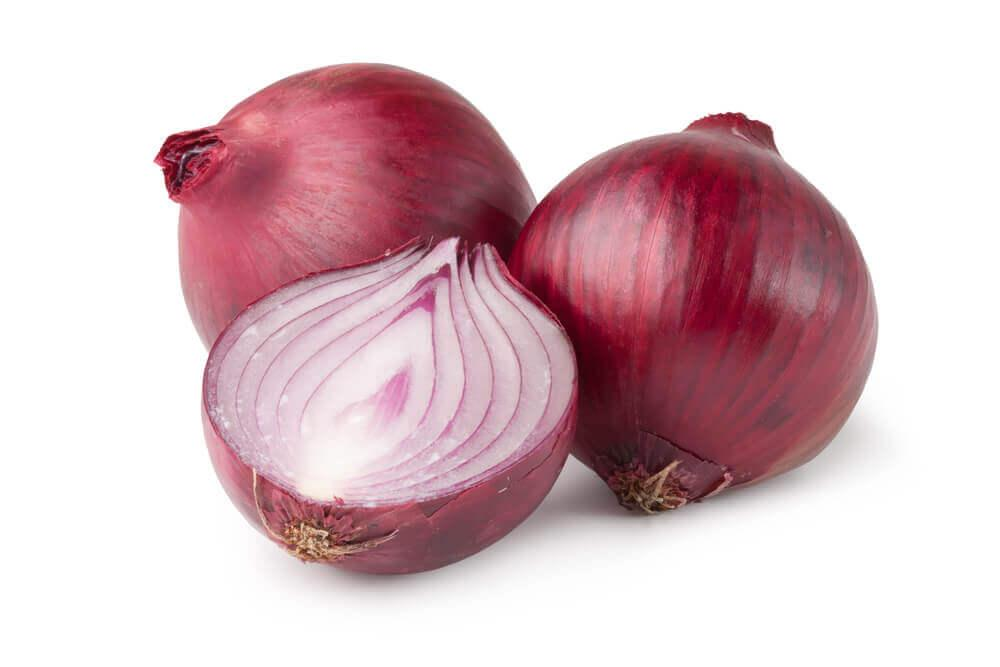onion: (506, 109, 879, 514), (199, 231, 579, 575), (152, 60, 538, 355)
